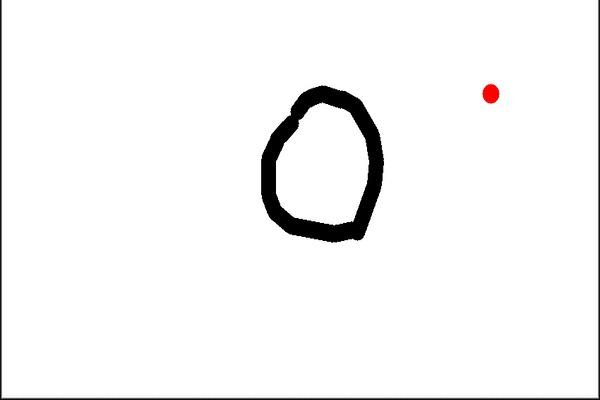O: (241, 73, 390, 250)
